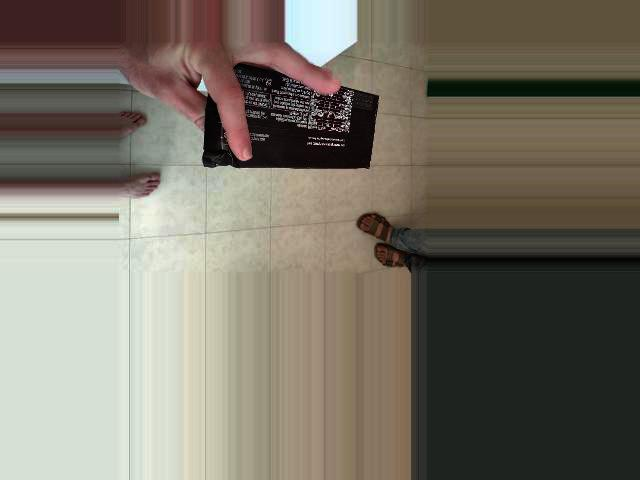chocolate: (215, 90, 324, 272)
